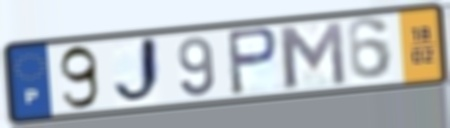6: (347, 15, 395, 88)
9: (56, 44, 101, 111), (175, 34, 217, 99)
J: (111, 33, 166, 109)
M: (274, 19, 350, 91)
P: (224, 25, 281, 98)
